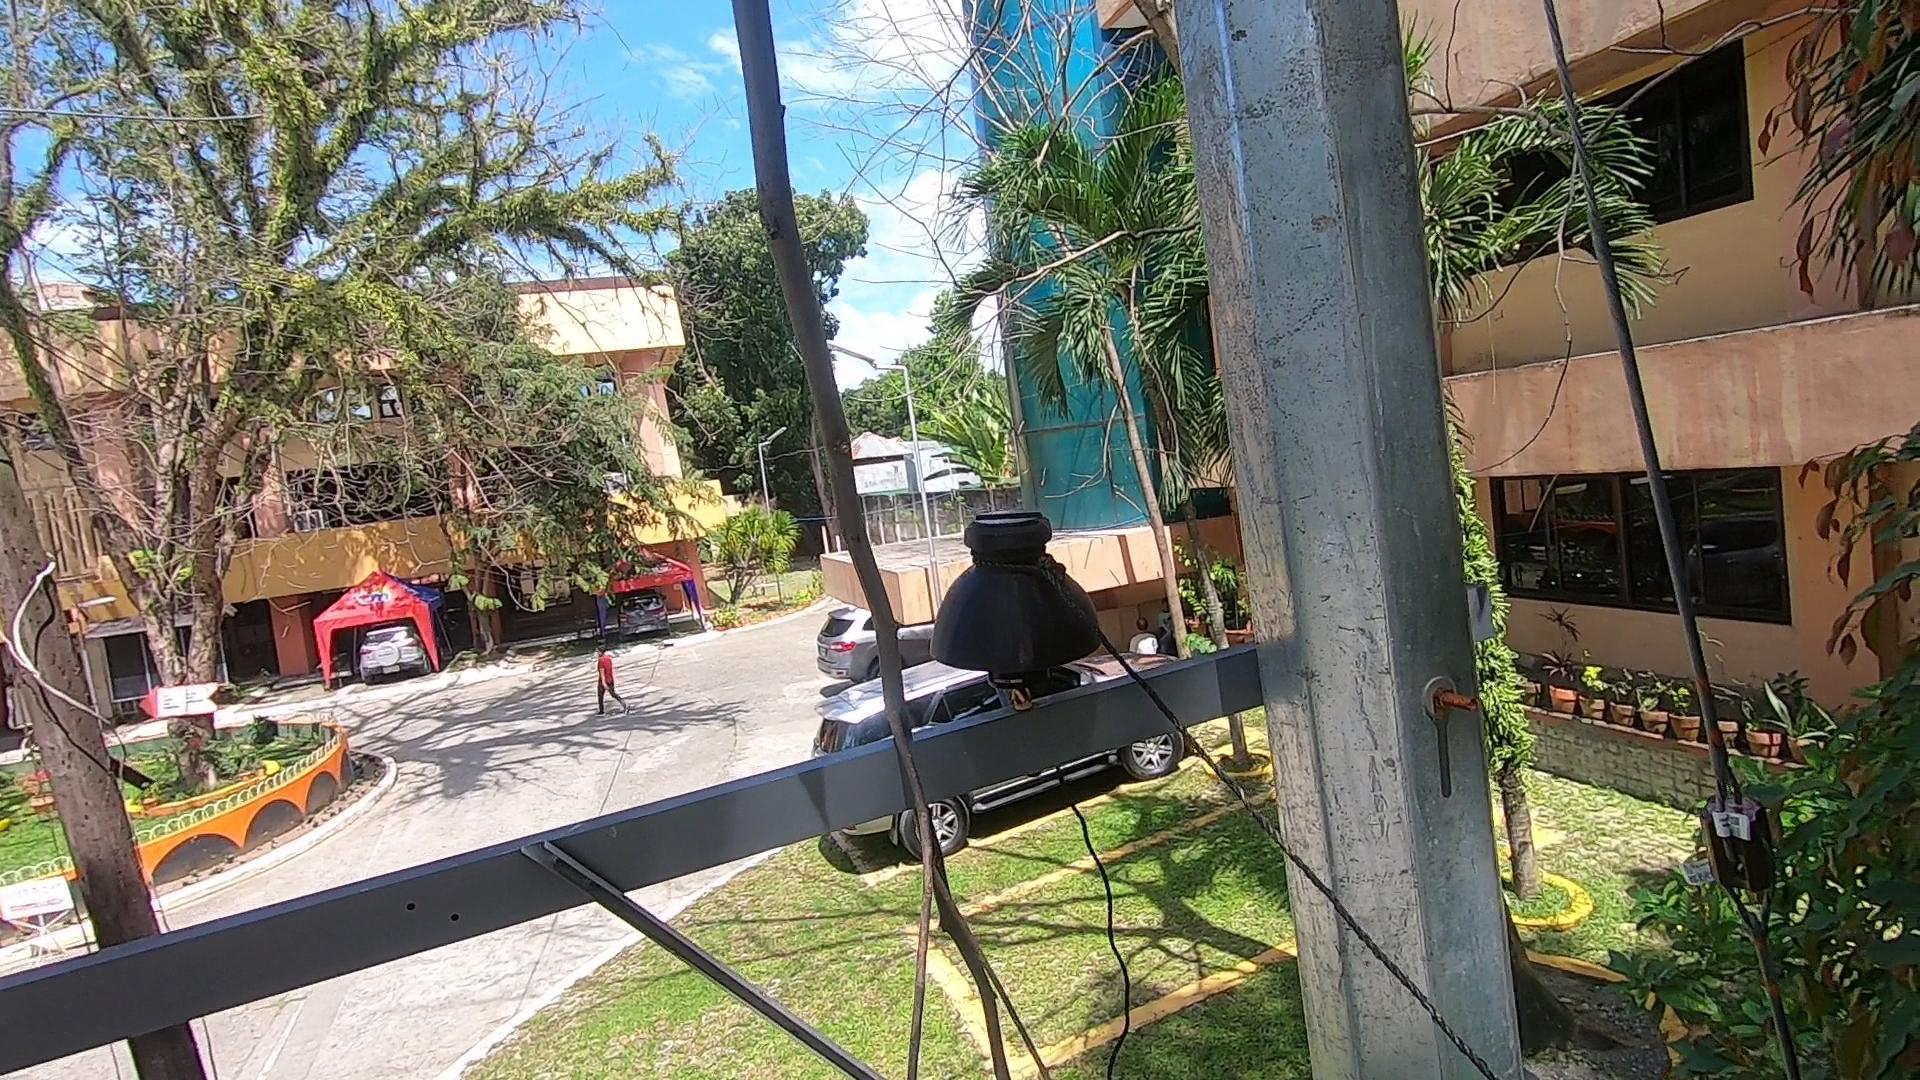tree branch: (679, 1, 1062, 1077)
